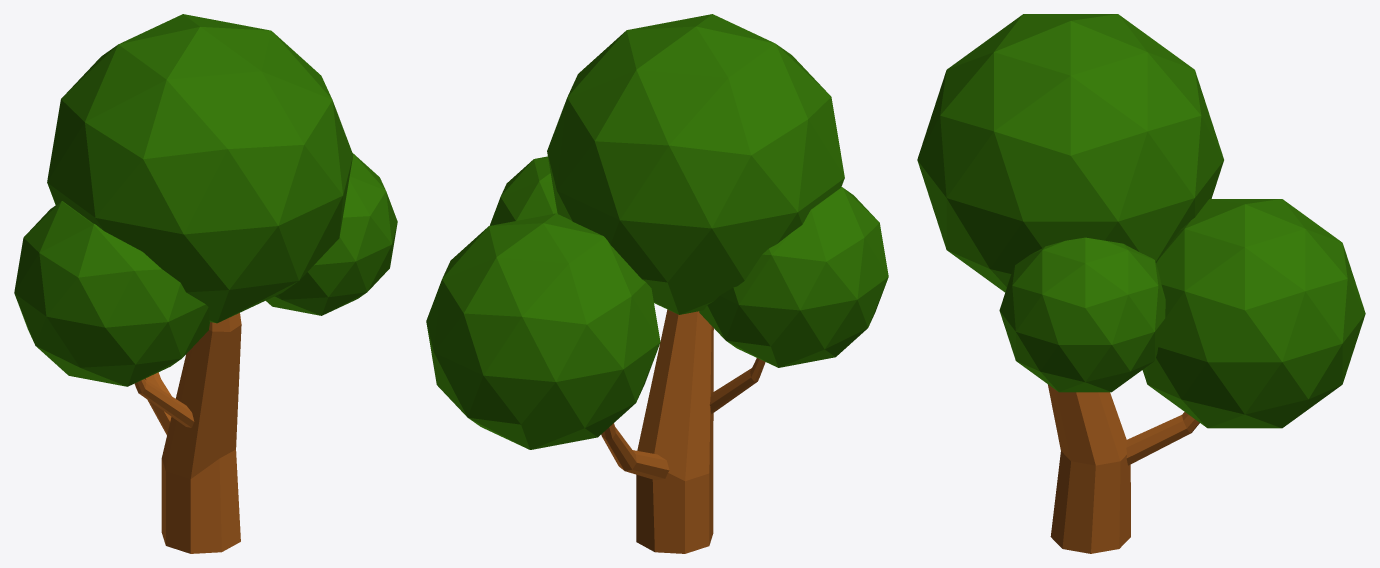
The model's file is Tree01.fbx.
3 views of the same model, side by side, from view 1: azimuth 30°, elevation 25°; view 2: azimuth 150°, elevation 25°; view 3: azimuth 270°, elevation 25° (orthographic). The views are drawn at different scales.
Parts seen in each view (by area): view 1: Tree.000; view 2: Tree.000; view 3: Tree.000.
Part boxes in pixels (<box>): Tree.000: <box>14,14,397,553</box>; Tree.000: <box>426,14,888,553</box>; Tree.000: <box>917,14,1365,553</box>.
Bounding box in the file's own units: 440 × 596 × 474.
